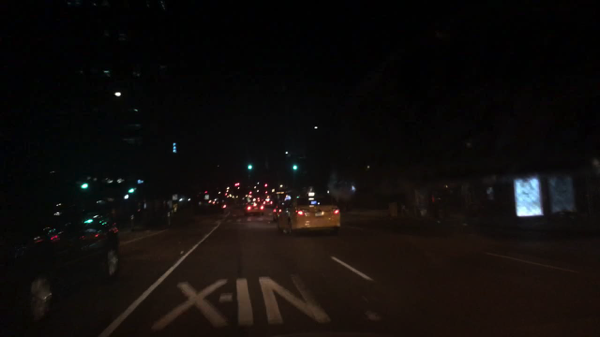car: (1, 195, 123, 324), (279, 187, 340, 236), (195, 191, 227, 214), (243, 200, 264, 215), (271, 205, 282, 222), (263, 198, 272, 206)
traffic light: (78, 182, 89, 190), (248, 163, 255, 171), (129, 188, 136, 194), (292, 164, 297, 171), (233, 183, 241, 187), (247, 190, 253, 195), (264, 190, 269, 196), (264, 183, 269, 187)
